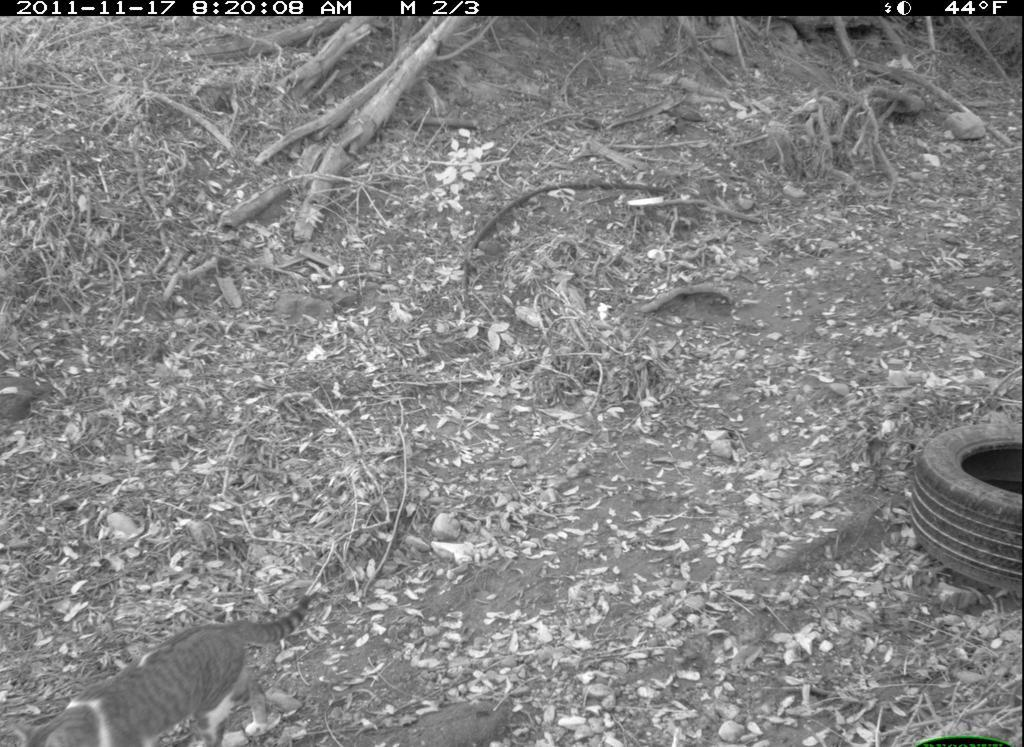cat: (15, 583, 340, 735)
